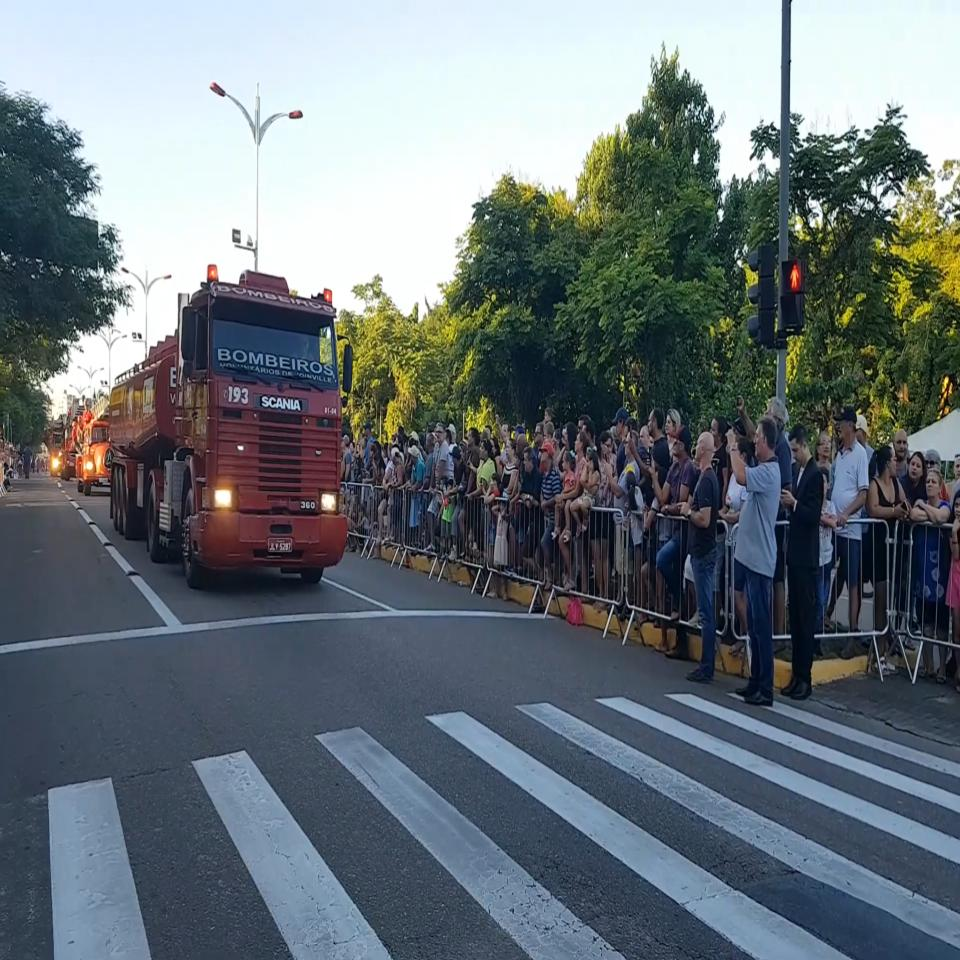viatura: (109, 261, 356, 590)
